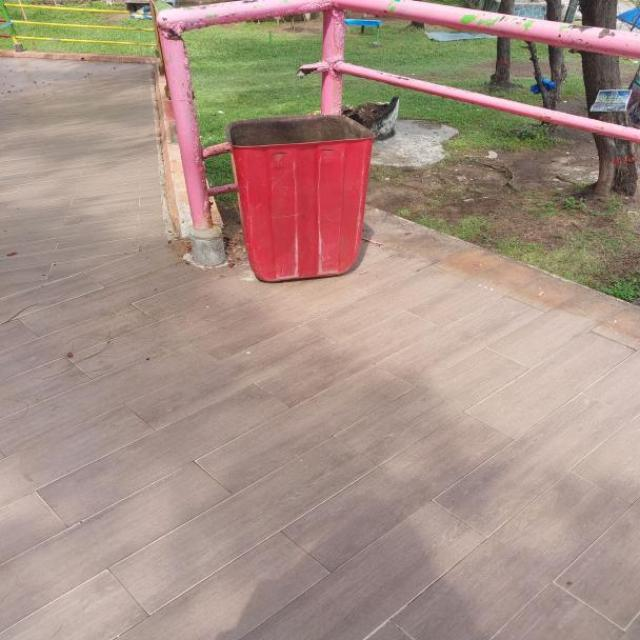dustbin ahead at: (220, 116, 384, 285)
